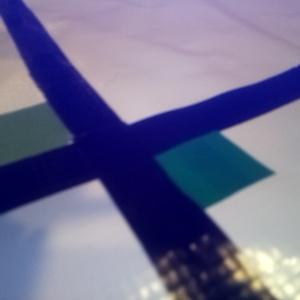bottom_right: (117, 124, 274, 209)
top_left: (1, 102, 105, 178)
